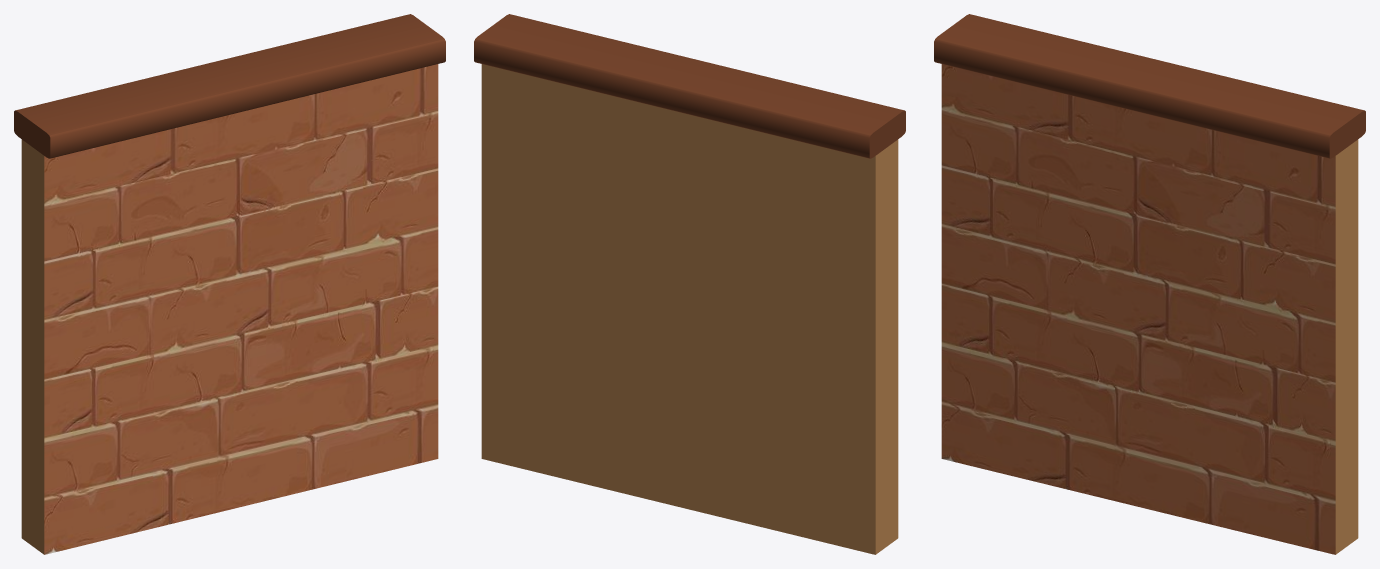
The model's file is wall.fbx.
3 views of the same model, side by side, from view 1: azimuth 30°, elevation 25°; view 2: azimuth 150°, elevation 25°; view 3: azimuth 330°, elevation 25° (orthographic).
Visible parts, largest first — view 1: Wall; view 2: Wall; view 3: Wall.
Boxes of the visible parts, <box> form: Wall: <box>14,14,445,554</box>; Wall: <box>474,14,905,554</box>; Wall: <box>934,14,1365,554</box>.
Bounding box in the file's own units: 1004 × 1030 × 160.
3 materials, 1 textured.
